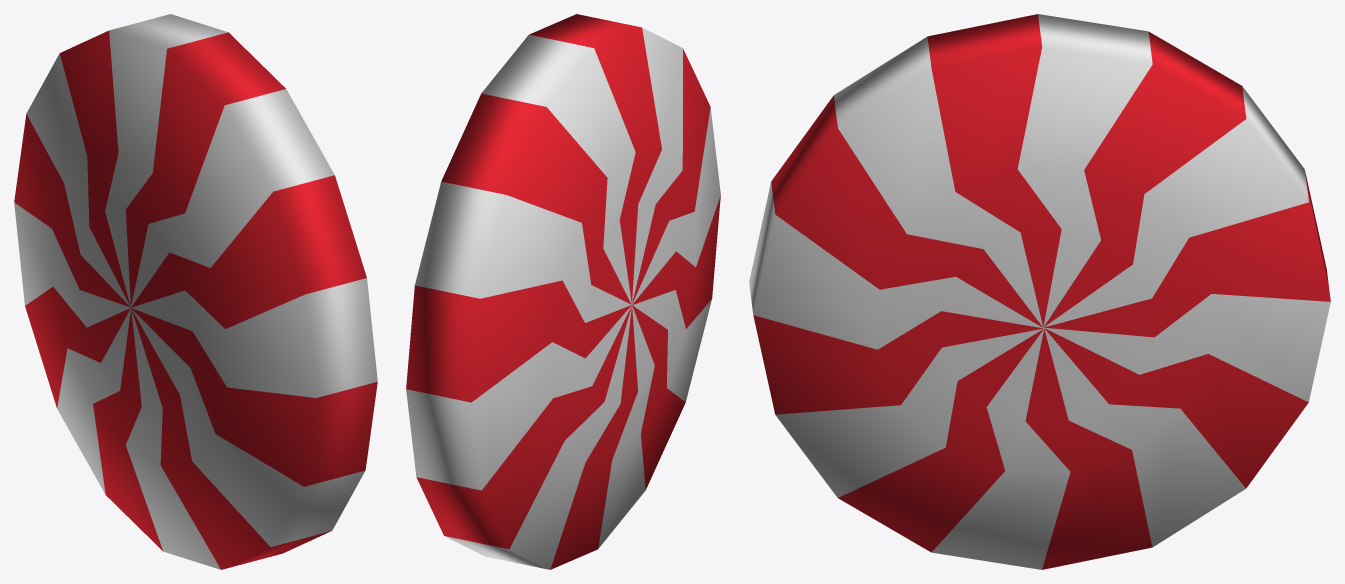
File: candy.fbx
3 views of the same model, side by side, from view 1: azimuth 30°, elevation 25°; view 2: azimuth 150°, elevation 25°; view 3: azimuth 270°, elevation 25° (orthographic). The views are drawn at different scales.
Visible parts, largest first — view 1: Cylinder; view 2: Cylinder; view 3: Cylinder.
Part boxes in pixels (box(x1,y1,x2,y2)): Cylinder: box(14, 14, 377, 569); Cylinder: box(406, 14, 720, 569); Cylinder: box(749, 14, 1330, 569).
Size of the model in its own units: 57.67 by 200 by 201.
